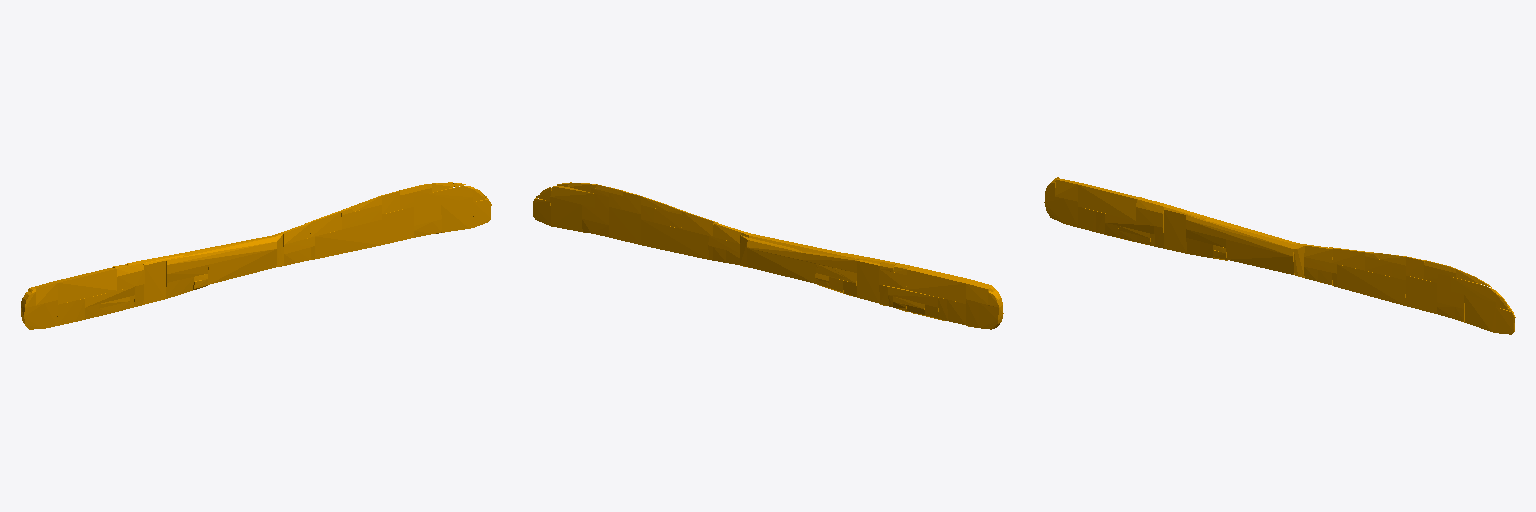
The robot description file, URDF, robot "cutlery-knife":
<?xml version="1.0" ?>
<robot name="cutlery-knife">
  <link name="baseLink">
    <contact>
      <lateral_friction value="1.0"/>
      <inertia_scaling value="3.0"/>
    </contact>
    <inertial>
      <origin rpy="0 0 0" xyz="0.000 0.000 0.000"/>
       <mass value=".1"/>
       <inertia ixx="1" ixy="0.0" ixz="0.0" iyy="1" iyz="0.0" izz="1"/>
    </inertial>
    <visual>
      <origin rpy="0 0 0" xyz="0 0 0"/>
      <geometry>
        <mesh filename="cutlery/cutlery-knife_1.obj" scale="1.0 1.0 1.0"/>
      </geometry>
    </visual>
    <collision>
      <origin rpy="0 0 0" xyz="0 0 0"/>
      <geometry>
        <mesh filename="../collision/cutlery/cutlery-knife_1.obj" scale="1.0 1.0 1.0"/>
      </geometry>
    </collision>
  </link>
</robot>
        

--- Render facts (derived) ---
3 views of the same robot in one strip: view 1: azimuth 30°, elevation 25°; view 2: azimuth 150°, elevation 25°; view 3: azimuth 330°, elevation 25° (orthographic).
Robot: cutlery-knife — 1 links, 0 joints (none); root link baseLink; default pose: every joint at zero.
Visible links, largest first — view 1: baseLink; view 2: baseLink; view 3: baseLink.
Boxes of the visible links, <box> form: baseLink: <box>21,182,491,329</box>; baseLink: <box>533,182,1003,329</box>; baseLink: <box>1044,177,1515,334</box>.
Size in the robot's own frame: 0.2071 by 0.0062 by 0.0228 metres.
1 mesh visuals loaded from 1 distinct referenced files (1 OBJ).